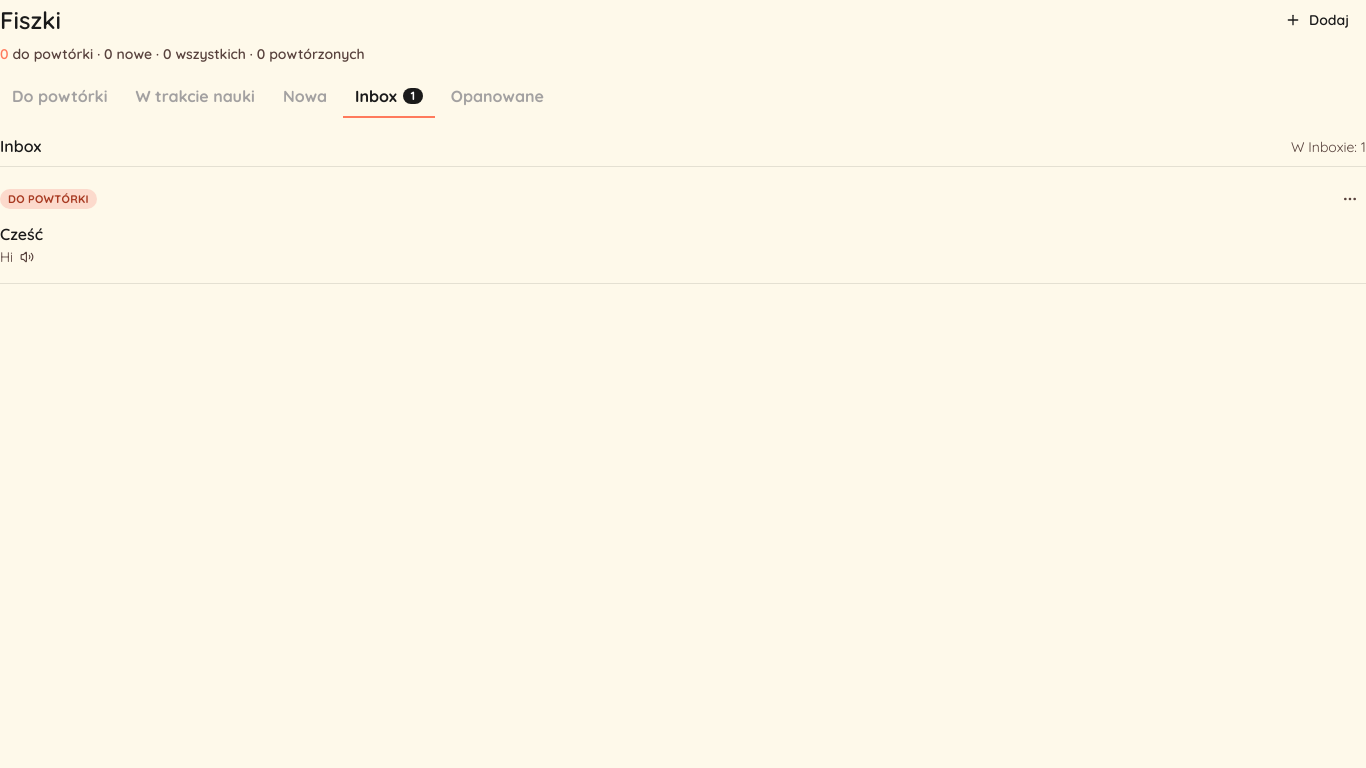
Test: FlashcardsView › stays on the inbox tab and shows a confirmation toast after delete
Step 1. Click the button named "Opcje karty" → [1350, 199], box [1334,183,1365,215]
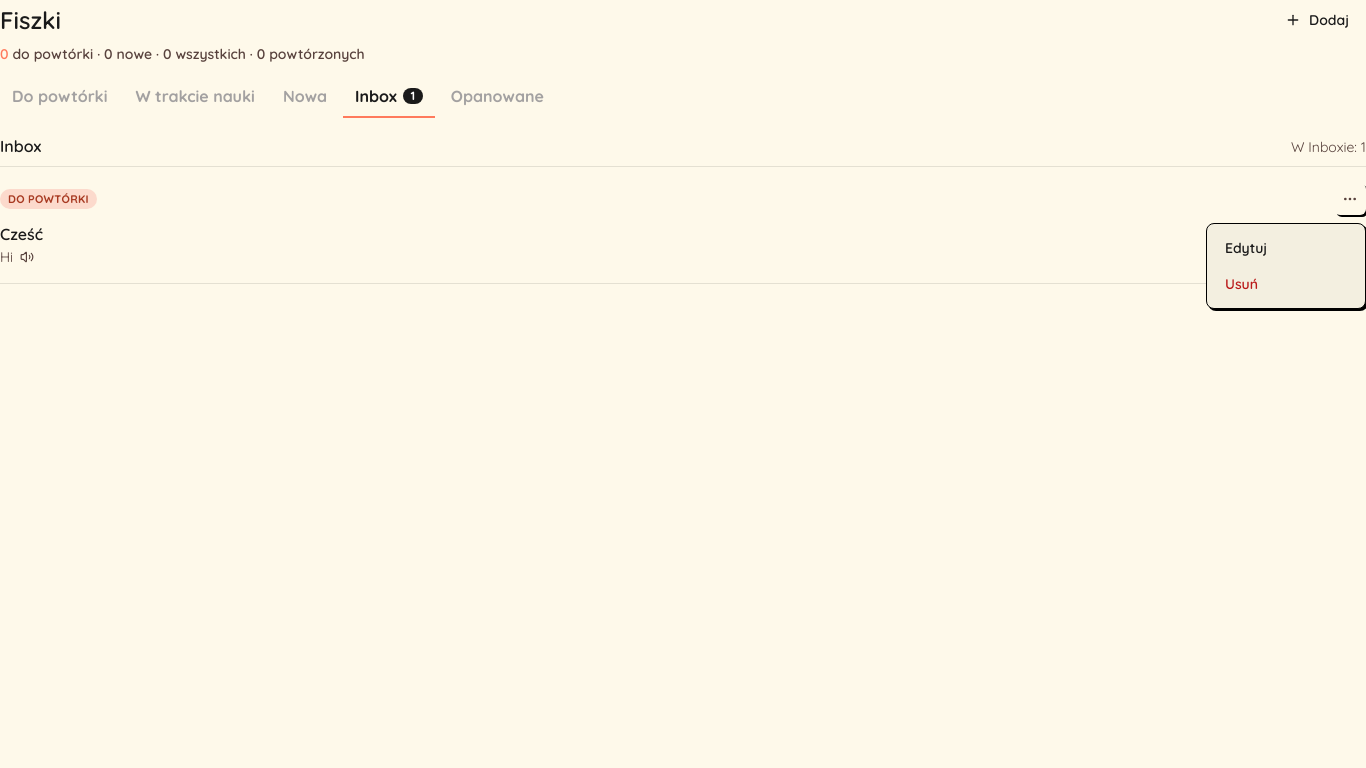
Step 2. Click the menu item "Usuń" → [1242, 284], box [1225,275,1258,293]
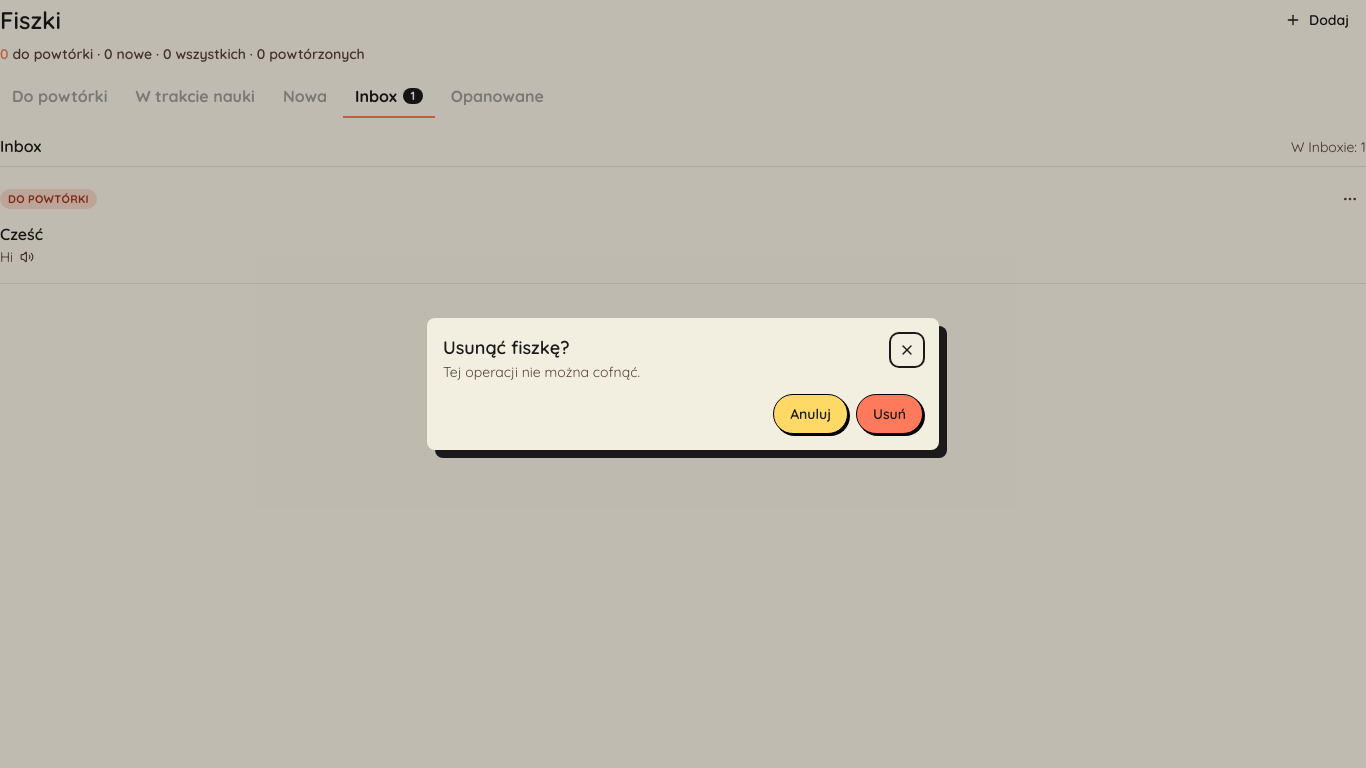
Step 3. Click the button "Usuń" → [890, 414], box [856,394,923,434]
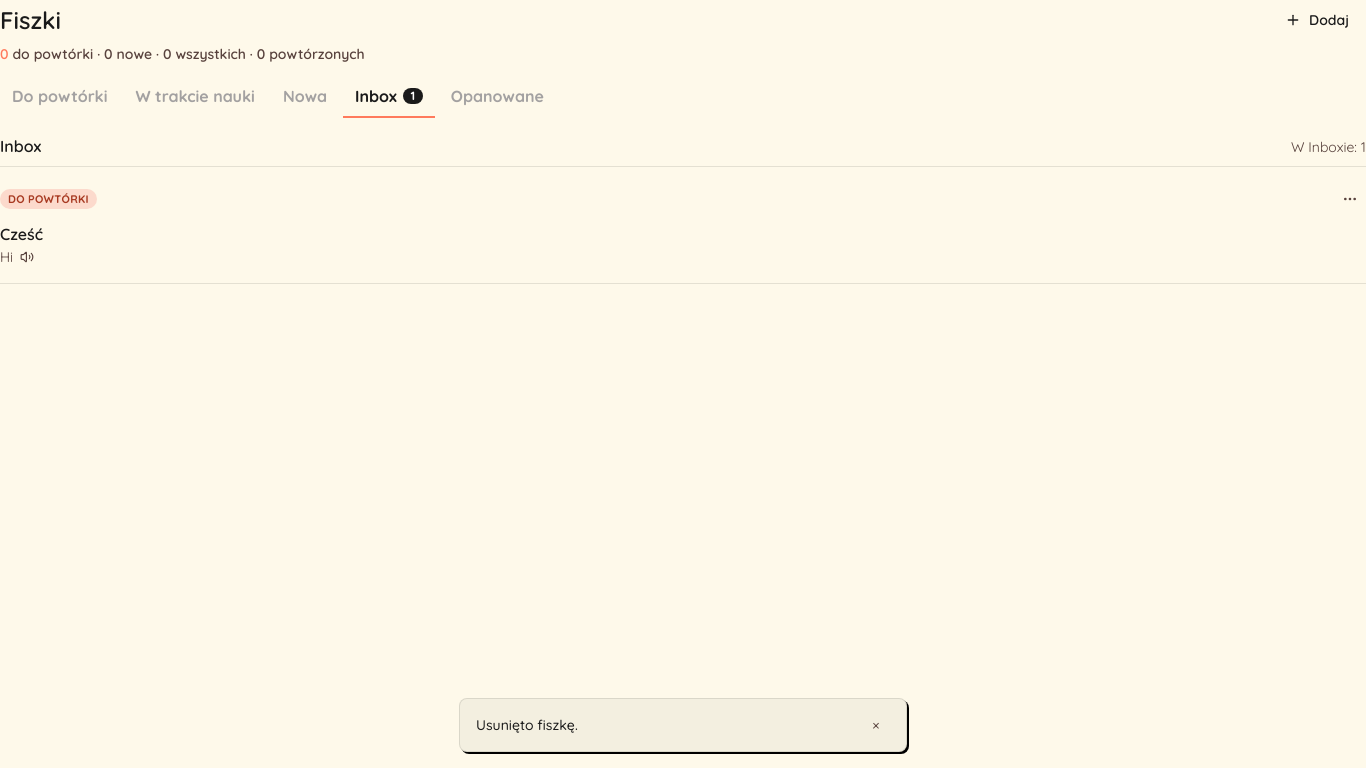
Expected: the message shows "Usunięto fiszkę.", [476,716,578,734]
